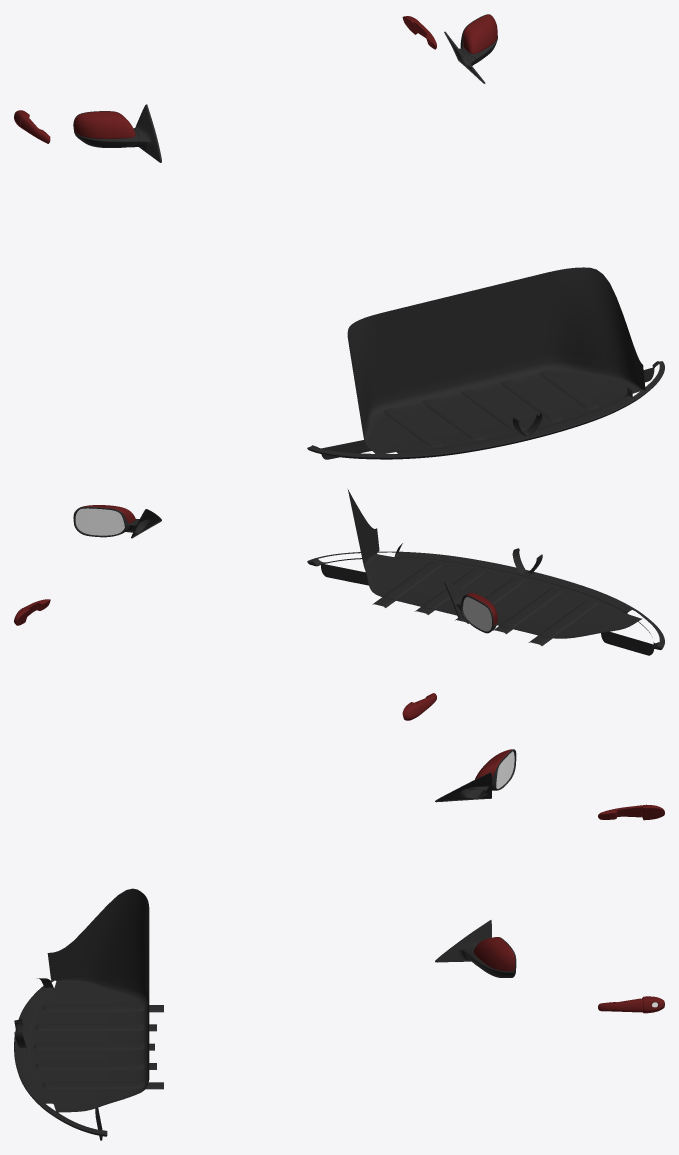
Rendered from Utils.fbx.
3 renders of one model, top to bottom at view 1: azimuth 30°, elevation 25°; view 2: azimuth 150°, elevation 25°; view 3: azimuth 270°, elevation 25°, orthographic.
Visible parts, largest first — view 1: Frunk??, Side mirrors, Handles; view 2: Frunk??, Side mirrors, Handles; view 3: Frunk??, Side mirrors, Handles.
Boxes of the visible parts, bbox=[...] form: Frunk??: bbox=[307, 267, 664, 459]; Side mirrors: bbox=[73, 14, 497, 162]; Handles: bbox=[14, 16, 436, 143]; Frunk??: bbox=[307, 489, 664, 655]; Side mirrors: bbox=[73, 505, 497, 633]; Handles: bbox=[14, 599, 436, 720]; Frunk??: bbox=[14, 888, 163, 1140]; Side mirrors: bbox=[435, 749, 516, 977]; Handles: bbox=[598, 804, 664, 1013].
Bounding box in the file's own units: 2538 × 1222 × 3359.
